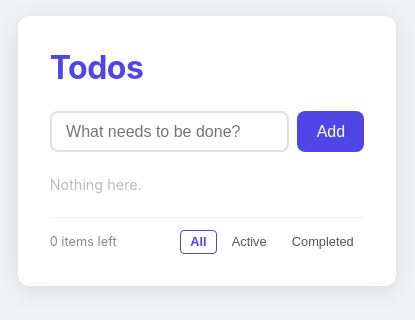
Scenario: App — adding todos › clears the input after adding
Type "Walk dog" into the field named "new todo" at (170, 132), box [50,111,290,152]
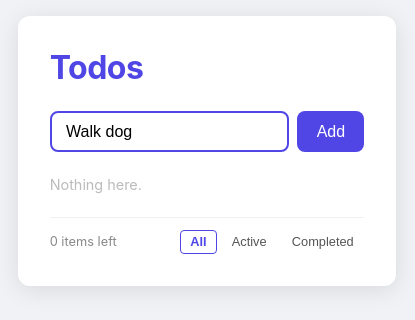
Click the button "Add" at (331, 132), box [298,111,364,152]
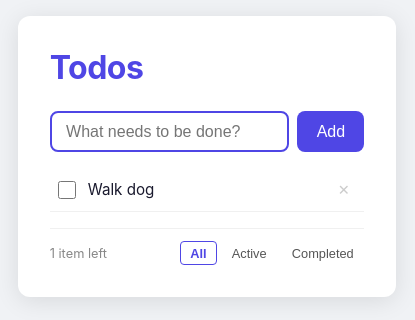
Expected: the text "Walk dog" is shown, [88,180,154,199]
Expected: the field named "new todo" is empty, [50,111,290,152]
